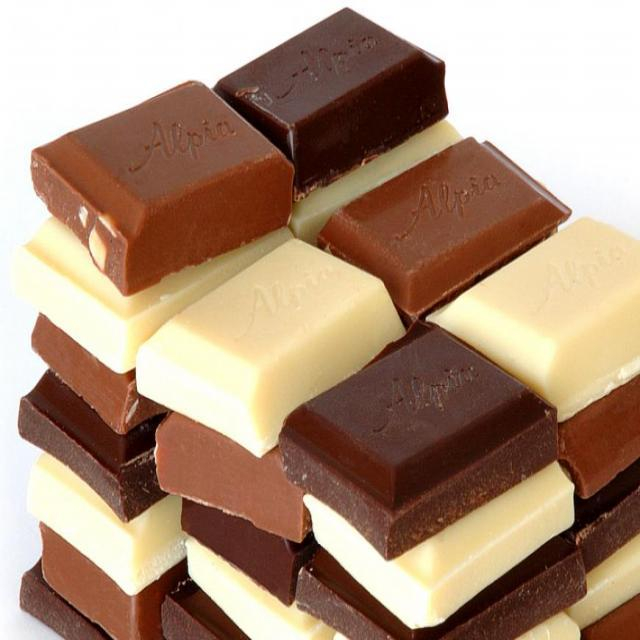Chocolate bar packaged: (278, 330, 562, 569), (136, 240, 414, 460), (28, 79, 292, 295), (313, 135, 575, 323), (426, 215, 640, 425), (212, 8, 450, 186)
